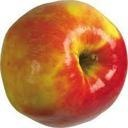apple: (2, 1, 128, 128)
